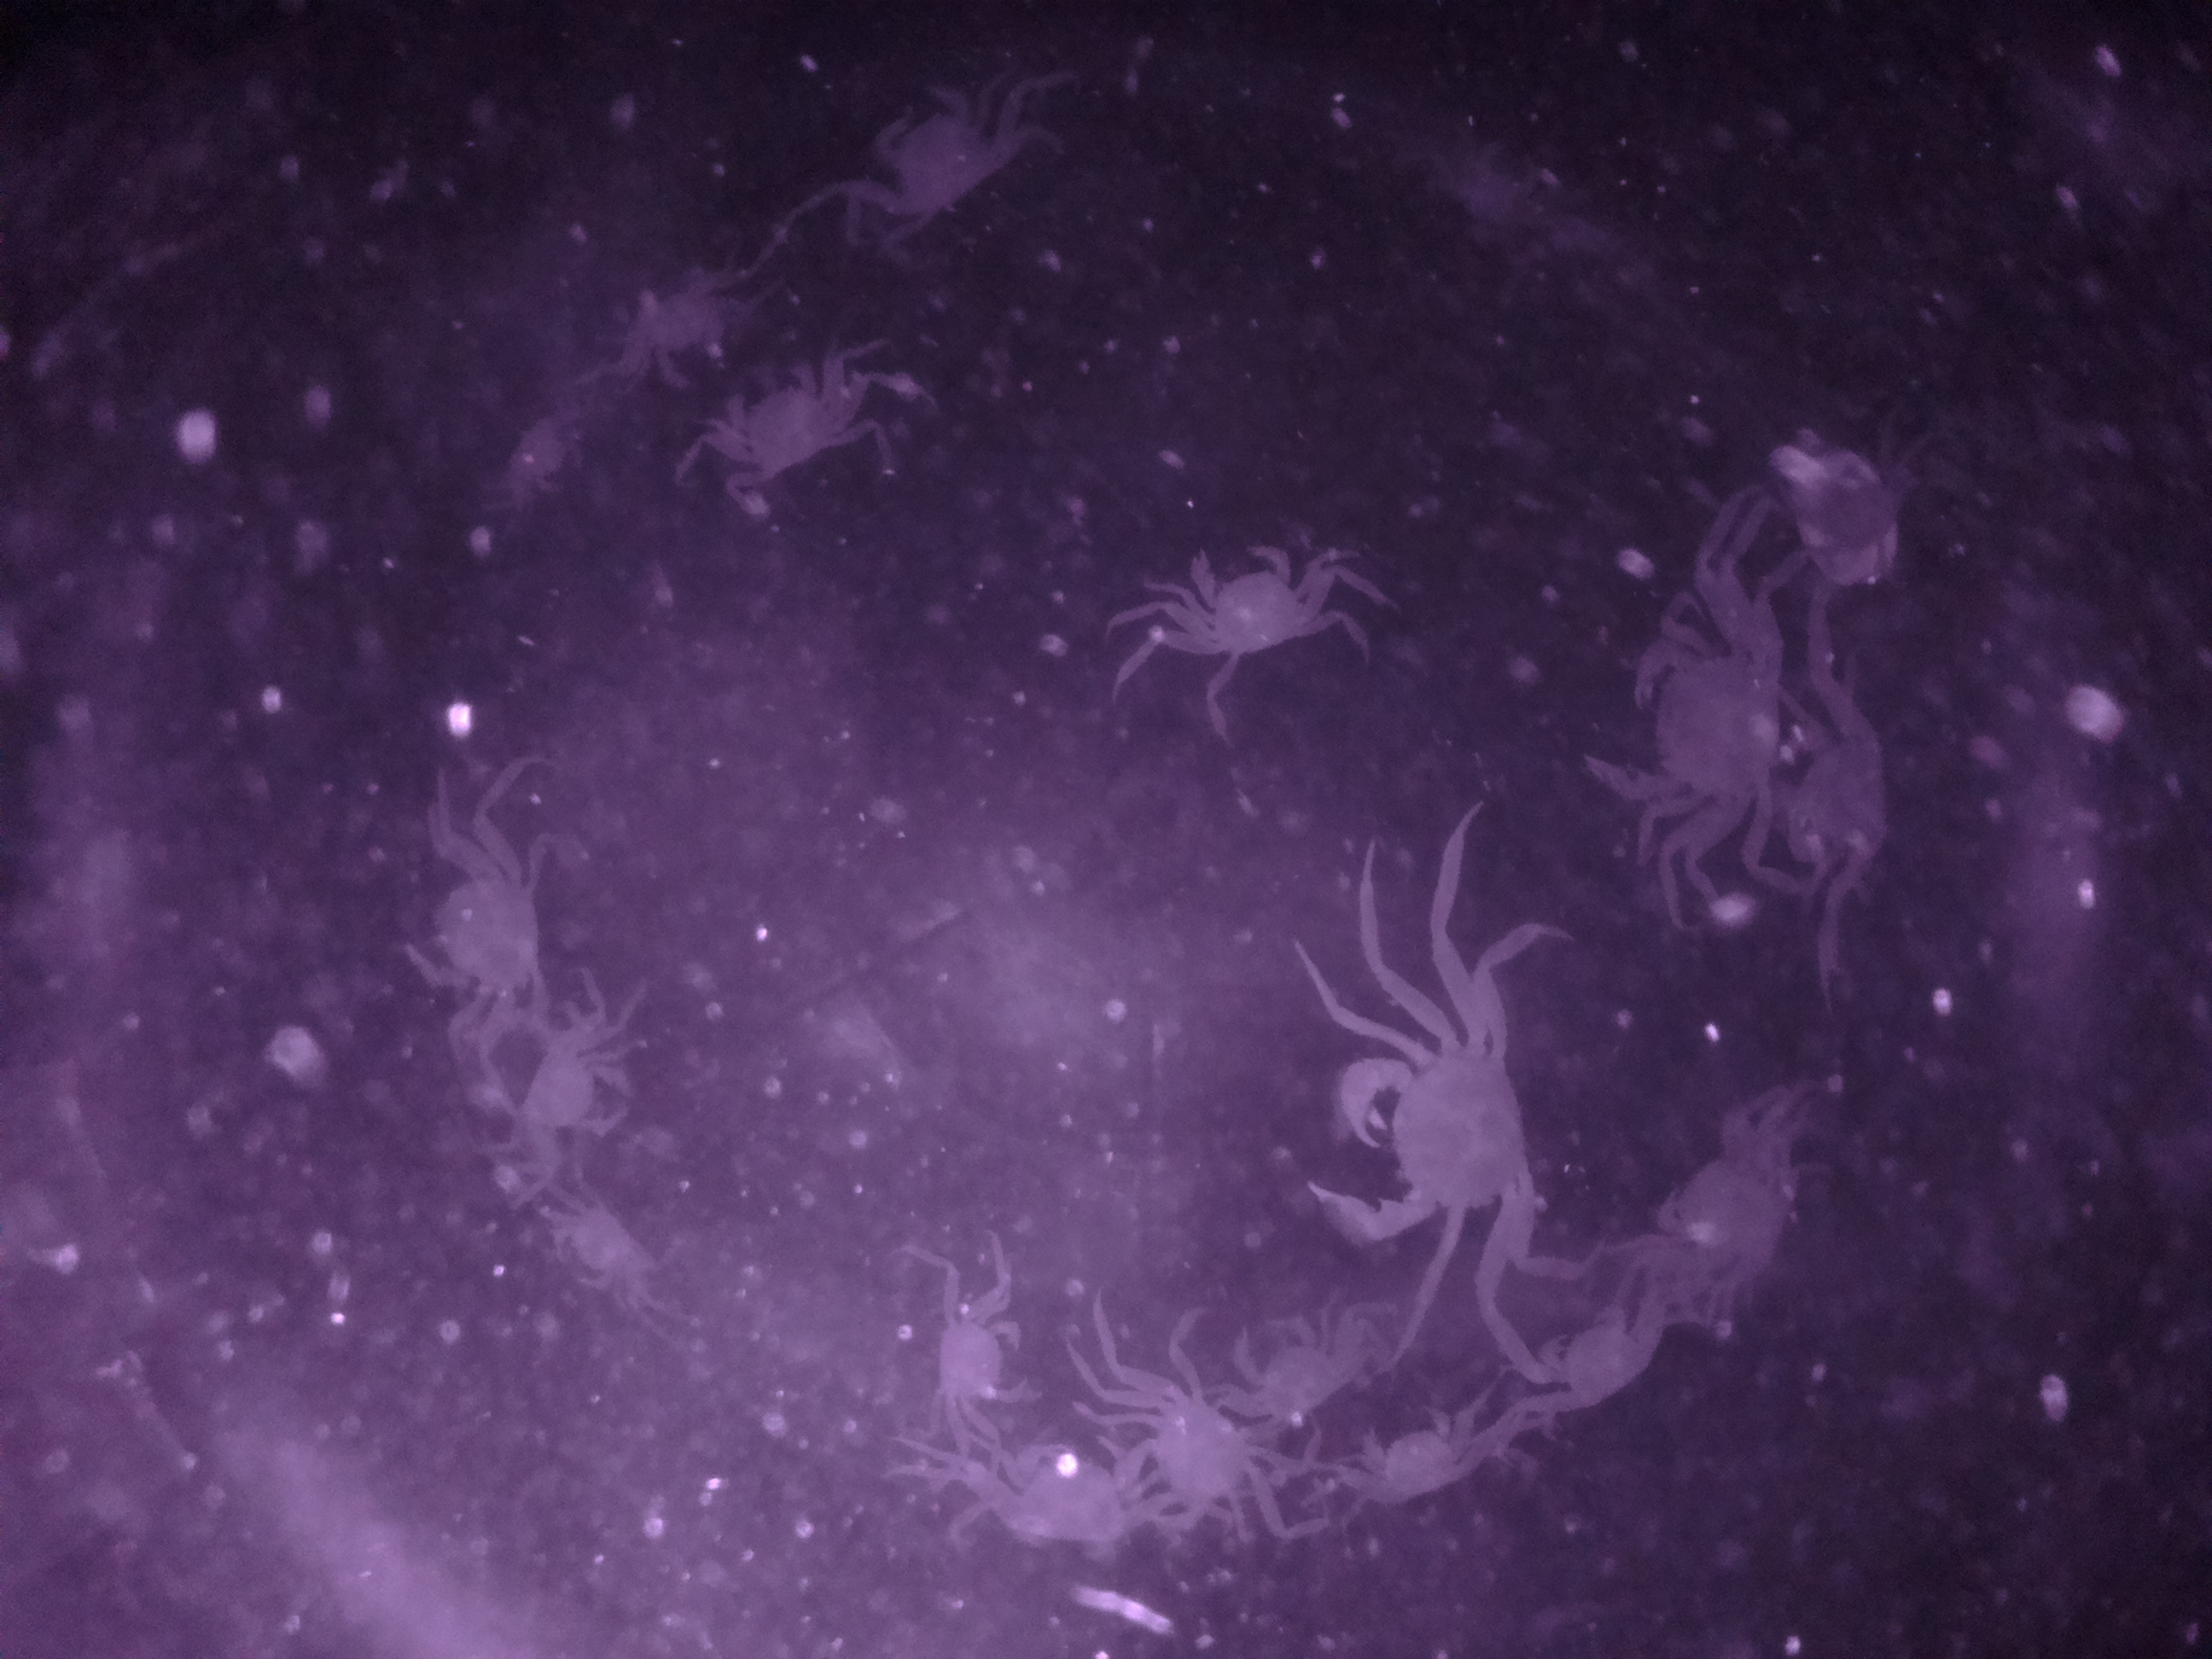Crab: (1294, 1007, 1538, 1272), (1597, 587, 1785, 847), (392, 831, 561, 1004), (866, 71, 1001, 240), (1169, 526, 1325, 669), (1205, 1297, 1372, 1427), (1521, 1283, 1665, 1432), (982, 1427, 1139, 1556), (914, 1286, 1036, 1429), (1339, 1403, 1494, 1513), (529, 1183, 643, 1314)
